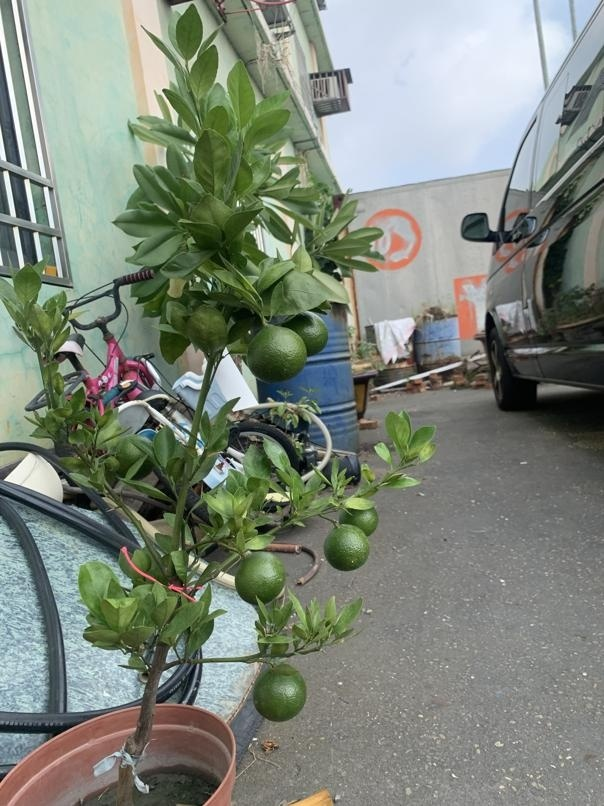Tangerine: (249, 319, 308, 383), (250, 661, 310, 722), (236, 550, 284, 604), (325, 524, 369, 572)
